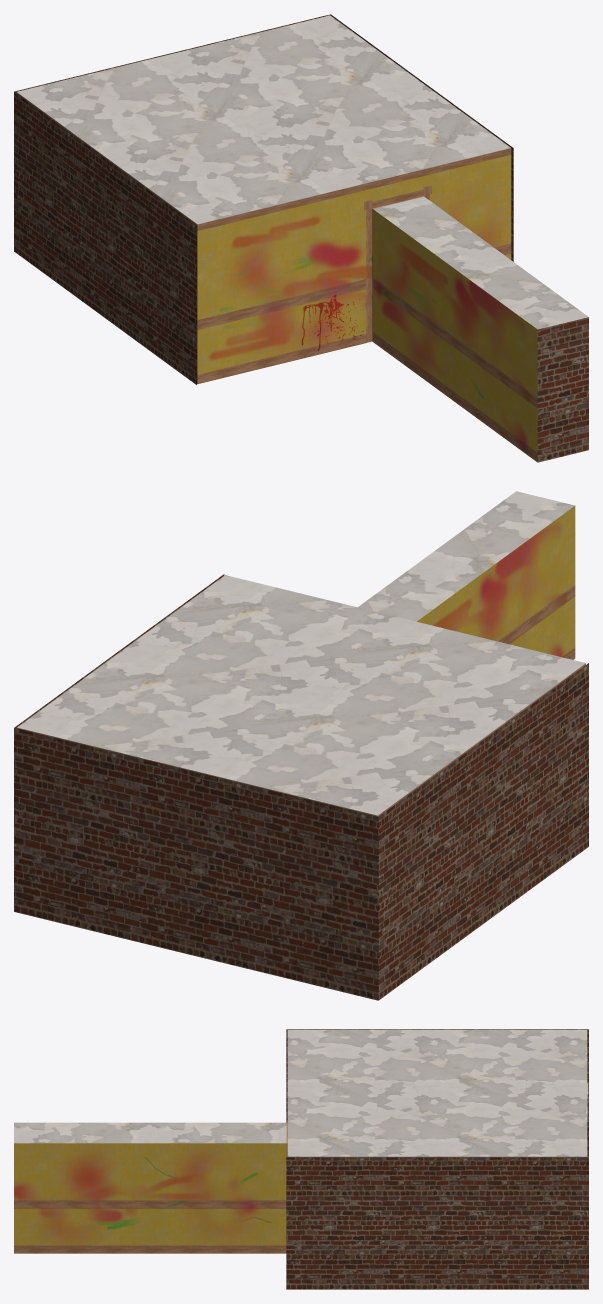
The model's file is rage room.fbx.
3 views of the same model, one above another, from view 1: azimuth 30°, elevation 25°; view 2: azimuth 150°, elevation 25°; view 3: azimuth 270°, elevation 25° (orthographic). The views are drawn at different scales.
Visible parts, largest first — view 1: Material2, Material2.002, Material2.003, Material3.003; view 2: Material2.002, Material2, Material3.003; view 3: Material2, Material2.002, Material3.004, Material3.003.
Boxes of the visible parts, x1,y1,x2,y2 form: Material2: (17,15,588,329); Material2.002: (14,14,588,462); Material2.003: (197,148,511,383); Material3.003: (373,209,537,462); Material2.002: (14,574,588,1000); Material2: (17,491,585,815); Material3.003: (417,506,575,659); Material2: (14,1030,587,1156); Material2.002: (286,1029,588,1289); Material3.004: (14,1143,286,1253); Material3.003: (288,1156,586,1157).
Bounding box in the file's own units: 622 × 300 × 1181.
